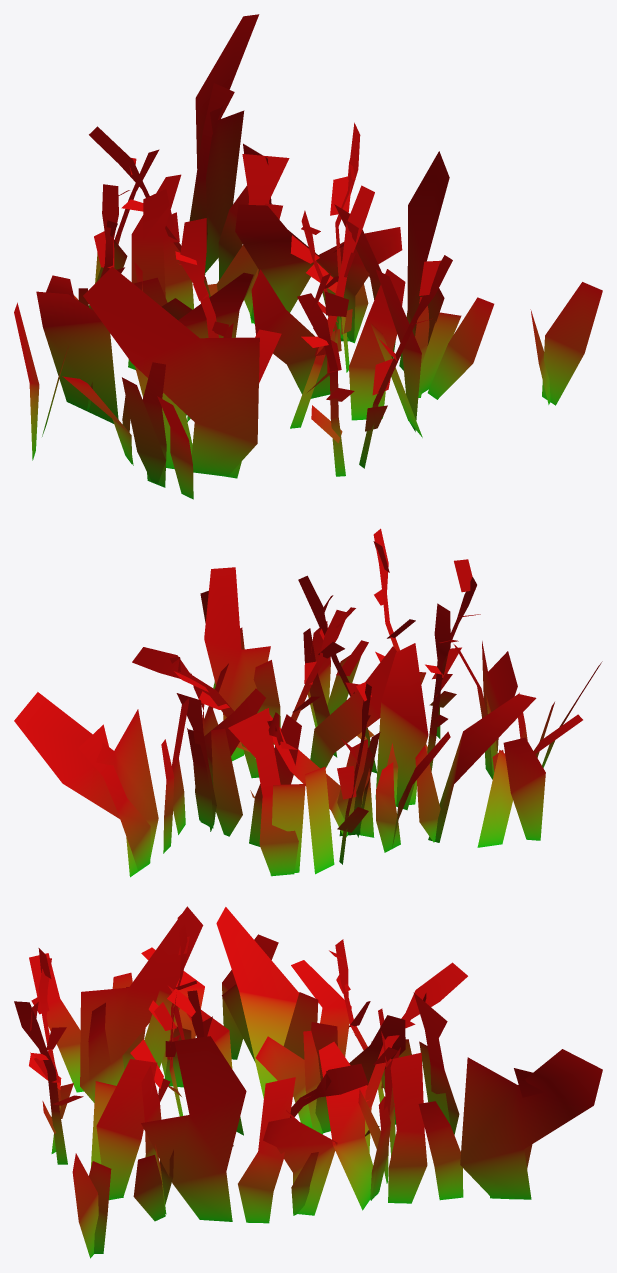
File: Var8_LOD2.fbx
3 renders of one model, top to bottom at view 1: azimuth 30°, elevation 25°; view 2: azimuth 150°, elevation 25°; view 3: azimuth 270°, elevation 25°, orthographic. The views are drawn at different scales.
Parts seen in each view (by area): view 1: _1a51_Var8_LOD2; view 2: _1a51_Var8_LOD2; view 3: _1a51_Var8_LOD2.
Boxes of the visible parts, bbox=[...] form: _1a51_Var8_LOD2: bbox=[14, 14, 602, 499]; _1a51_Var8_LOD2: bbox=[14, 528, 602, 877]; _1a51_Var8_LOD2: bbox=[14, 906, 602, 1258].
Bounding box in the file's own units: 17.55 × 8.05 × 19.69.
